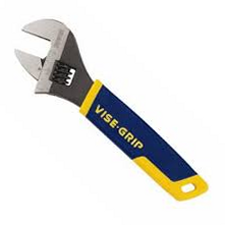Wrench: (12, 12, 217, 205)
